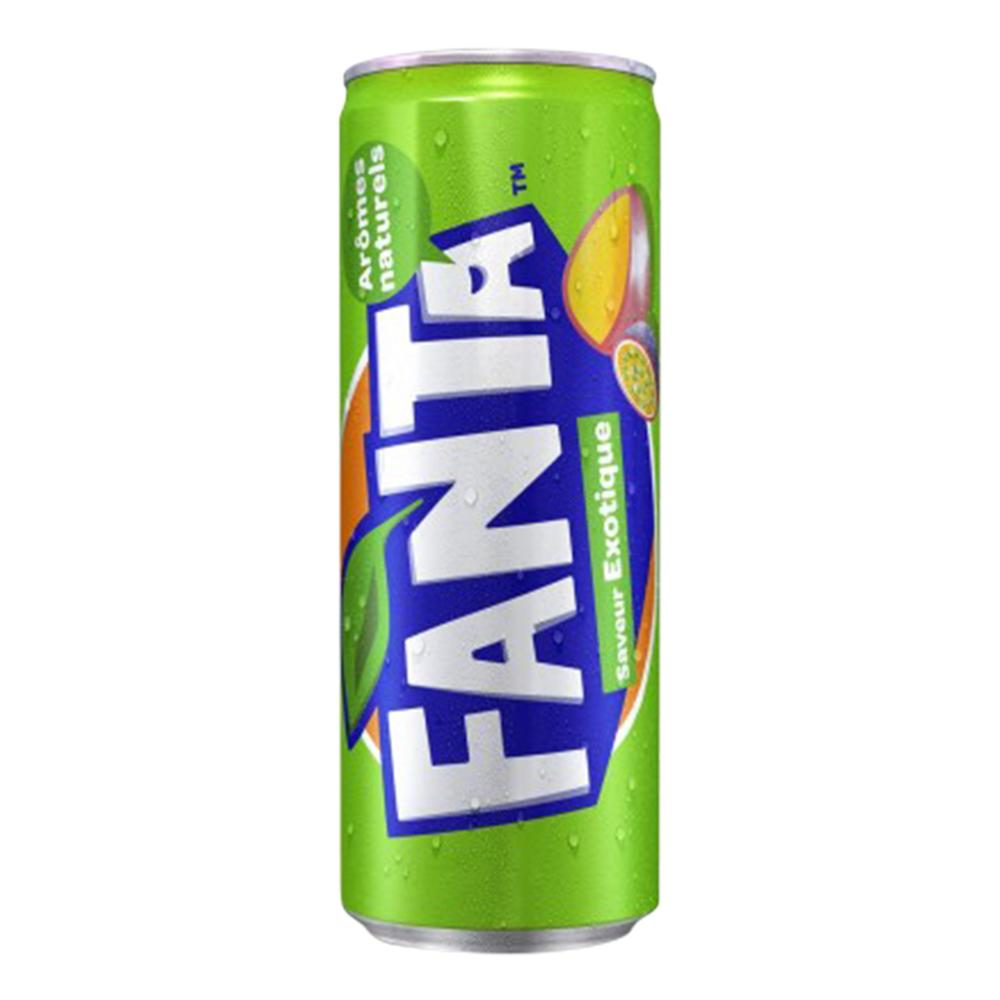metal: (340, 50, 660, 954)
